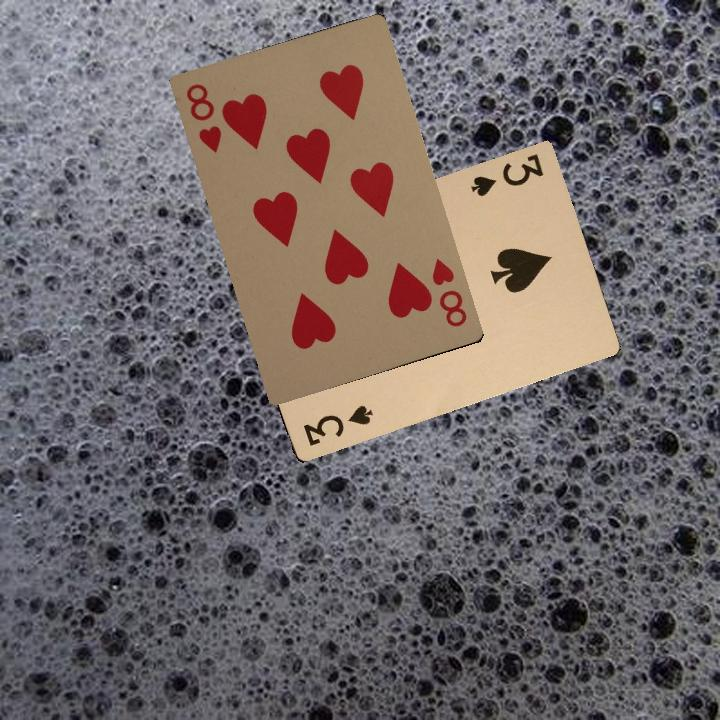3s: (467, 149, 547, 199), (299, 401, 376, 448)
8h: (182, 79, 224, 156), (428, 256, 470, 330)
